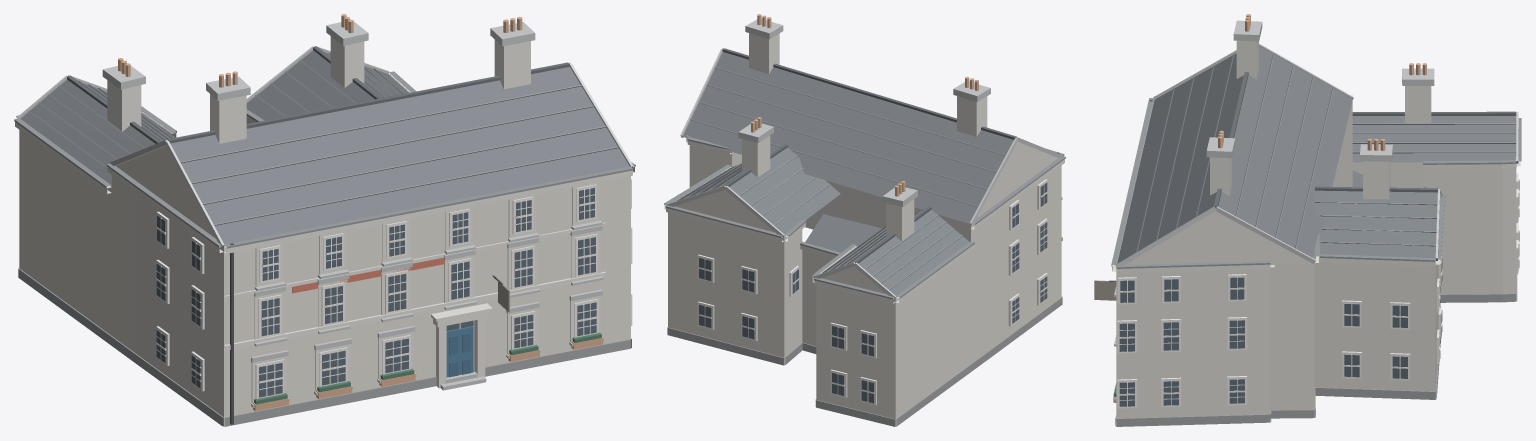
3 renders of one model, left to right at view 1: azimuth 30°, elevation 25°; view 2: azimuth 150°, elevation 25°; view 3: azimuth 270°, elevation 25°, orthographic. The views are drawn at different scales.
Visible parts, largest first — view 1: harl_grey003, slate003, string003, frame003, stone_band003, chim_render003, plinth003, slate_lt003, lead003, slate_dk003, pot003, door_green003 (+13 smaller); view 2: harl_grey003, slate003, chim_render003, stone_band003, slate_lt003, frame003, plinth003, lead003, string003, slate_dk003, pot003; view 3: harl_grey003, slate003, frame003, slate_lt003, stone_band003, plinth003, chim_render003, lead003, string003, slate_dk003, pot003, plaque003 (+3 smaller).
Part boxes in pixels (x1=…): harl_grey003: x1=19, y1=78, x2=630, y2=426; slate003: x1=20, y1=50, x2=629, y2=246; string003: x1=15, y1=74, x2=634, y2=403; frame003: x1=156, y1=179, x2=632, y2=398; stone_band003: x1=17, y1=21, x2=633, y2=407; chim_render003: x1=107, y1=36, x2=530, y2=143; plinth003: x1=18, y1=268, x2=631, y2=426; slate_lt003: x1=28, y1=53, x2=618, y2=225; lead003: x1=14, y1=71, x2=635, y2=248; slate_dk003: x1=67, y1=46, x2=569, y2=143; pot003: x1=118, y1=14, x2=603, y2=411; door_green003: x1=254, y1=332, x2=601, y2=404; harl_grey003: x1=668, y1=142, x2=1061, y2=426; slate003: x1=677, y1=52, x2=1013, y2=297; chim_render003: x1=742, y1=33, x2=987, y2=240; stone_band003: x1=666, y1=19, x2=1063, y2=299; slate_lt003: x1=684, y1=67, x2=1005, y2=290; frame003: x1=697, y1=179, x2=1047, y2=405; plinth003: x1=667, y1=297, x2=1062, y2=426; lead003: x1=664, y1=135, x2=1065, y2=299; string003: x1=664, y1=138, x2=1064, y2=303; slate_dk003: x1=722, y1=48, x2=1016, y2=263; pot003: x1=751, y1=14, x2=978, y2=196; harl_grey003: x1=1116, y1=101, x2=1516, y2=426; slate003: x1=1117, y1=47, x2=1516, y2=263; frame003: x1=1117, y1=173, x2=1519, y2=408; slate_lt003: x1=1136, y1=54, x2=1516, y2=252; stone_band003: x1=1114, y1=20, x2=1518, y2=400; plinth003: x1=1115, y1=274, x2=1517, y2=426; chim_render003: x1=1210, y1=40, x2=1431, y2=199; lead003: x1=1111, y1=95, x2=1521, y2=268; string003: x1=1112, y1=100, x2=1520, y2=273; slate_dk003: x1=1213, y1=72, x2=1516, y2=207; pot003: x1=1113, y1=14, x2=1426, y2=402; plaque003: x1=1094, y1=280, x2=1116, y2=300.
Size of the model in its own units: 18.43 by 13.33 by 19.4.
